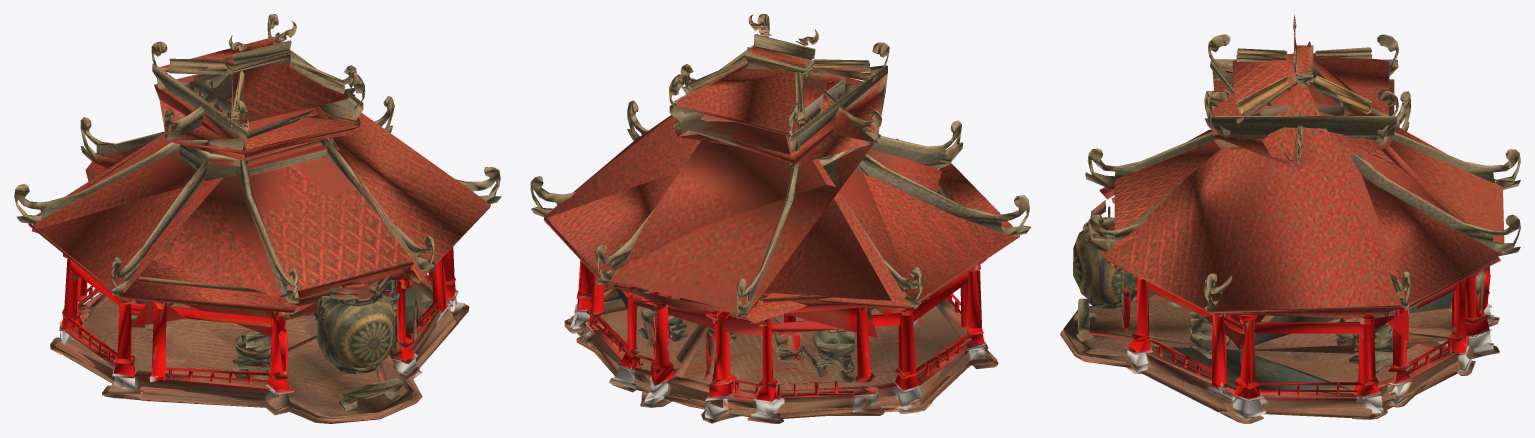
File: SanDinh_TrongDong.fbx
The picture shows the model from 3 angles, left to right: view 1: azimuth 30°, elevation 25°; view 2: azimuth 150°, elevation 25°; view 3: azimuth 270°, elevation 25°; orthographic projection. The views are drawn at different scales.
Parts seen in each view (by area): view 1: Mesh_0; view 2: Mesh_0; view 3: Mesh_0.
Part boxes in pixels (x1,y1,x2,y2): Mesh_0: [14, 14, 501, 423]; Mesh_0: [530, 14, 1031, 423]; Mesh_0: [1060, 14, 1520, 423].
Size of the model in its own units: 92.58 by 69.48 by 94.58.
1 material, 1 textured.
